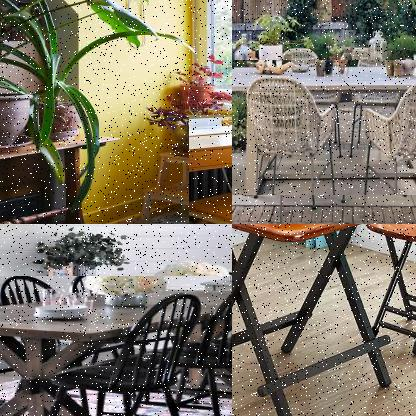table: (232, 224, 415, 415), (0, 276, 231, 415), (232, 60, 415, 197), (0, 129, 134, 223)
